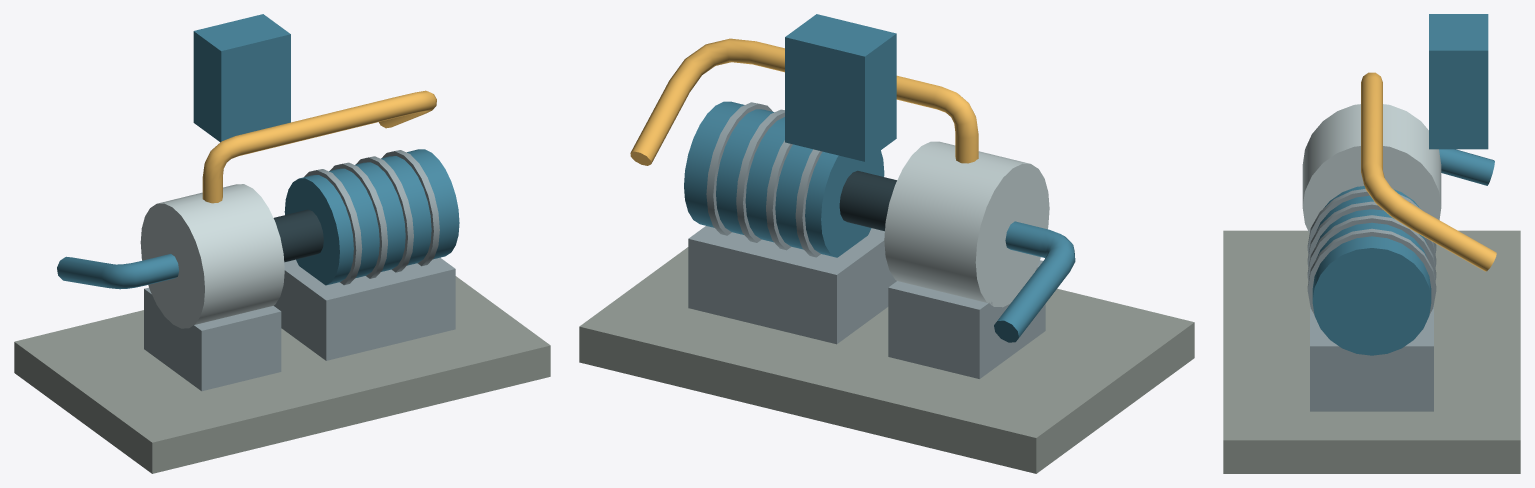
The model's file is feedwater_pump.glb.
3 renders of one model, left to right at view 1: azimuth 30°, elevation 25°; view 2: azimuth 150°, elevation 25°; view 3: azimuth 270°, elevation 25°, orthographic. The views are drawn at different scales.
Parts seen in each view (by area): view 1: FeedPumpSkid, PumpVolute, MotorBearing, FeedPumpACMotor, PumpACIsolator, PumpBearing, PressurizedFeedDischarge, CondensateSuction, PumpCoupling, MotorCoolingFin.002, MotorCoolingFin, MotorCoolingFin.001 (+1 smaller); view 2: FeedPumpSkid, PumpVolute, MotorBearing, FeedPumpACMotor, PumpACIsolator, PumpBearing, PressurizedFeedDischarge, CondensateSuction, PumpCoupling, MotorCoolingFin.003, MotorCoolingFin.002, MotorCoolingFin (+1 smaller); view 3: FeedPumpSkid, FeedPumpACMotor, PumpVolute, MotorBearing, PumpACIsolator, PressurizedFeedDischarge, MotorCoolingFin.003, CondensateSuction, MotorCoolingFin.002, MotorCoolingFin.001, MotorCoolingFin.
Boxes of the visible parts, x1,y1,x2,y2 form: FeedPumpSkid: (14,276,550,473); PumpVolute: (140,184,284,328); MotorBearing: (274,257,455,360); FeedPumpACMotor: (284,149,459,285); PumpACIsolator: (193,14,290,142); PumpBearing: (144,287,281,391); PressurizedFeedDischarge: (202,90,436,203); CondensateSuction: (57,254,179,289); PumpCoupling: (273,209,323,262); MotorCoolingFin.002: (356,156,413,272); MotorCoolingFin: (304,169,362,285); MotorCoolingFin.001: (330,162,387,278); FeedPumpSkid: (579,247,1194,473); PumpVolute: (884,141,1049,307); MotorBearing: (688,226,896,344); FeedPumpACMotor: (684,101,884,257); PumpACIsolator: (785,14,896,161); PumpBearing: (888,260,1045,378); PressurizedFeedDischarge: (630,38,978,165); CondensateSuction: (994,221,1075,342); PumpCoupling: (839,170,896,231); MotorCoolingFin.003: (706,102,772,235); MotorCoolingFin.002: (736,109,784,242); MotorCoolingFin: (795,149,822,257); FeedPumpSkid: (1223,230,1520,473); FeedPumpACMotor: (1312,186,1431,355); PumpVolute: (1302,104,1441,233); MotorBearing: (1310,305,1433,411); PumpACIsolator: (1429,14,1488,149); PressurizedFeedDischarge: (1361,72,1496,271); MotorCoolingFin.003: (1307,228,1436,313); CondensateSuction: (1439,149,1494,185); MotorCoolingFin.002: (1307,215,1436,281); MotorCoolingFin.001: (1307,201,1436,267); MotorCoolingFin: (1307,189,1436,254).
Bounding box in the file's own units: 0.2 × 0.15 × 0.12.
